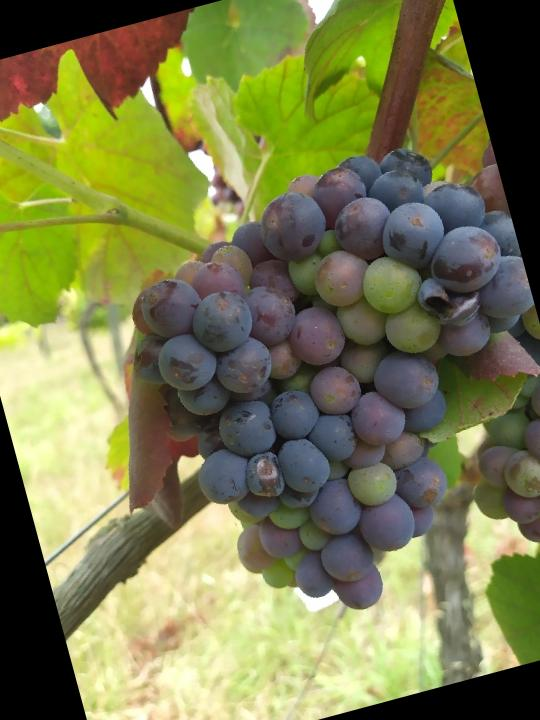grape: (89, 118, 540, 656)
